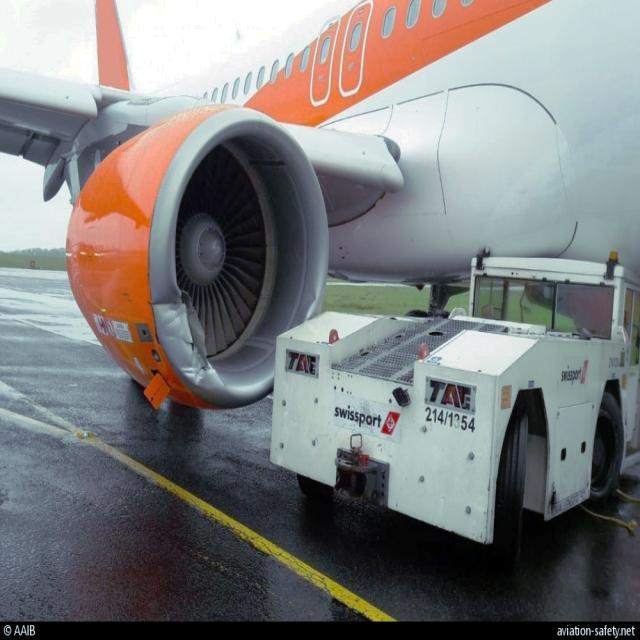crack: (181, 290, 211, 378)
dent: (153, 286, 189, 349), (299, 290, 334, 332), (183, 359, 207, 386)
